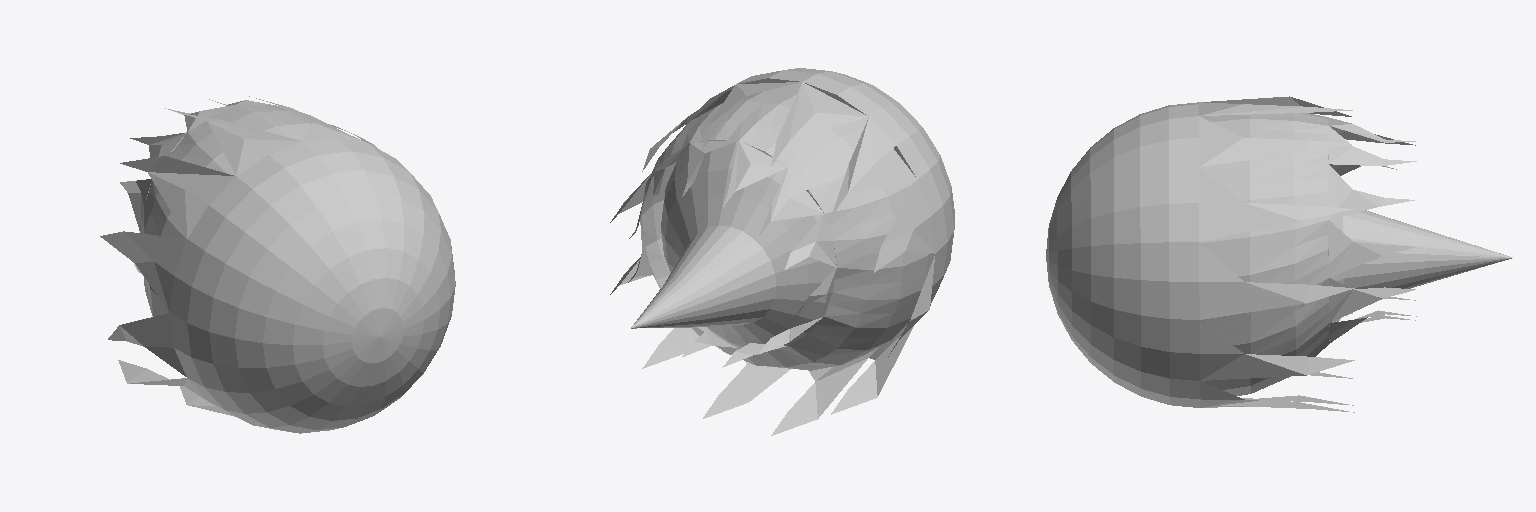
File: firemissile.obj
3 renders of one model, left to right at view 1: azimuth 30°, elevation 25°; view 2: azimuth 150°, elevation 25°; view 3: azimuth 270°, elevation 25°, orthographic.
Visible parts, largest first — view 1: Missile; view 2: Missile; view 3: Missile.
Part boxes in pixels (bbox=[...]): Missile: bbox=[100, 96, 455, 433]; Missile: bbox=[610, 68, 954, 435]; Missile: bbox=[1046, 96, 1512, 412].
Size of the model in its own units: 0.5765 by 0.5654 by 0.8398.